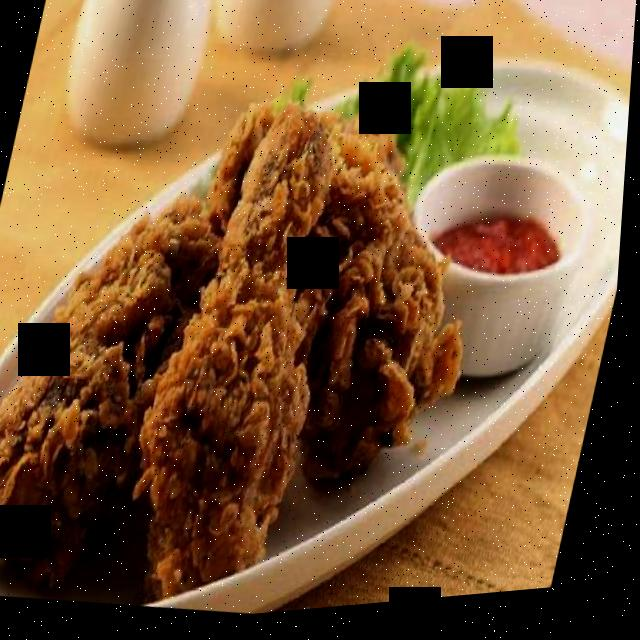Frango: (133, 79, 391, 600), (0, 81, 273, 572), (252, 63, 492, 476)
